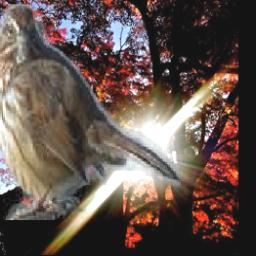Sparrow: (0, 4, 180, 220)
